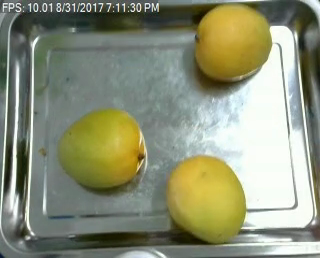Mango: (54, 104, 150, 195), (164, 149, 249, 244), (190, 2, 278, 82)
